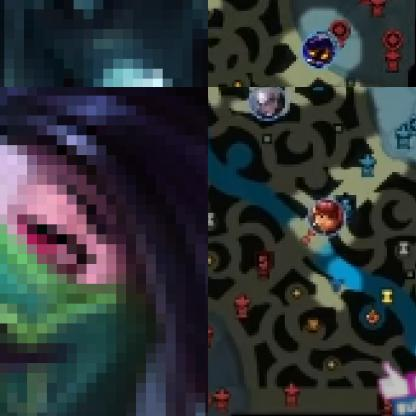Akali: (0, 87, 207, 415)
Annie: (307, 198, 347, 236)
Diana: (248, 87, 288, 121)
Karthus: (0, 0, 207, 86)
Veigar: (302, 32, 336, 70)
